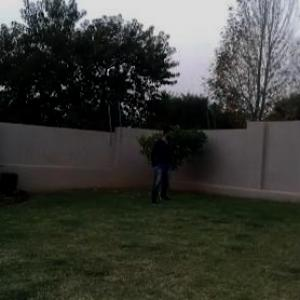follow: (149, 122, 175, 208)
